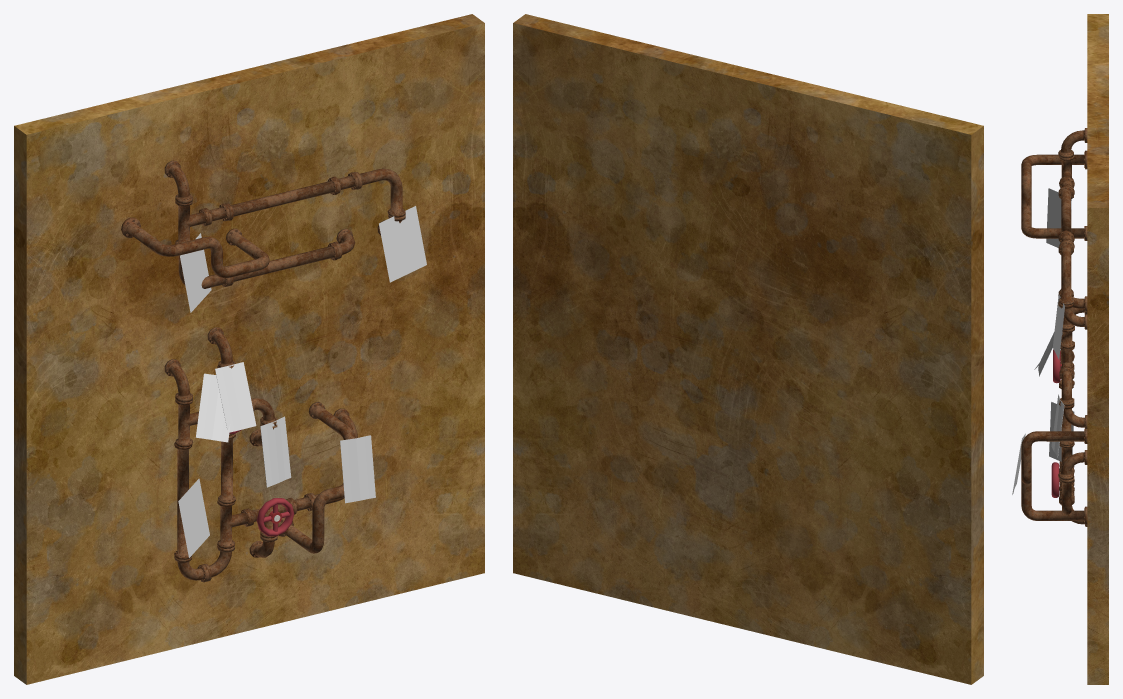
Rendered from WallDecorated.fbx.
The picture shows the model from 3 angles, left to right: view 1: azimuth 30°, elevation 25°; view 2: azimuth 150°, elevation 25°; view 3: azimuth 270°, elevation 25°; orthographic projection. The views are drawn at different scales.
Visible parts, largest first — view 1: WallDecorated; view 2: WallDecorated; view 3: WallDecorated.
Boxes of the visible parts, box(x1,y1,x2,y2) form: WallDecorated: box(14, 14, 484, 684); WallDecorated: box(513, 14, 983, 684); WallDecorated: box(1012, 14, 1108, 684).
Bounding box in the file's own units: 300 × 344 × 63.26.
